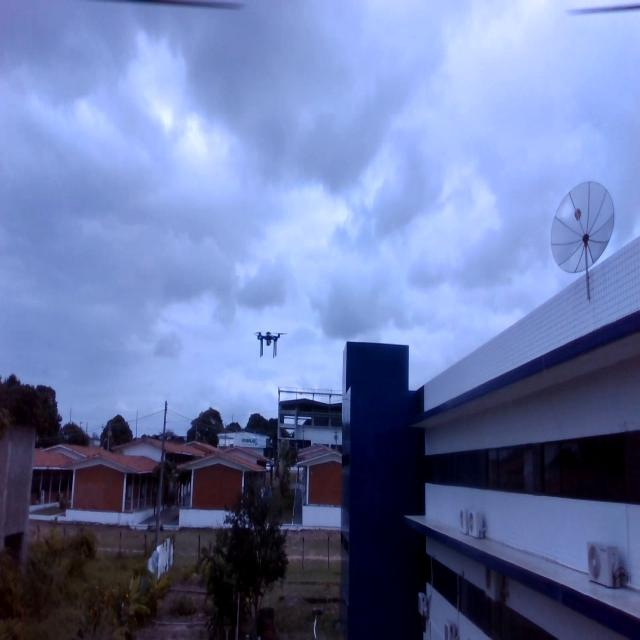-uav-: (250, 326, 293, 370)
